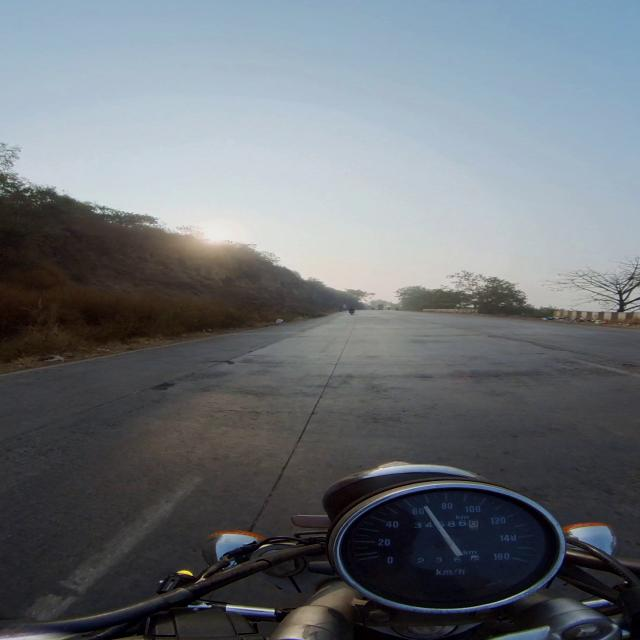motorcycle: (0, 463, 639, 639)
